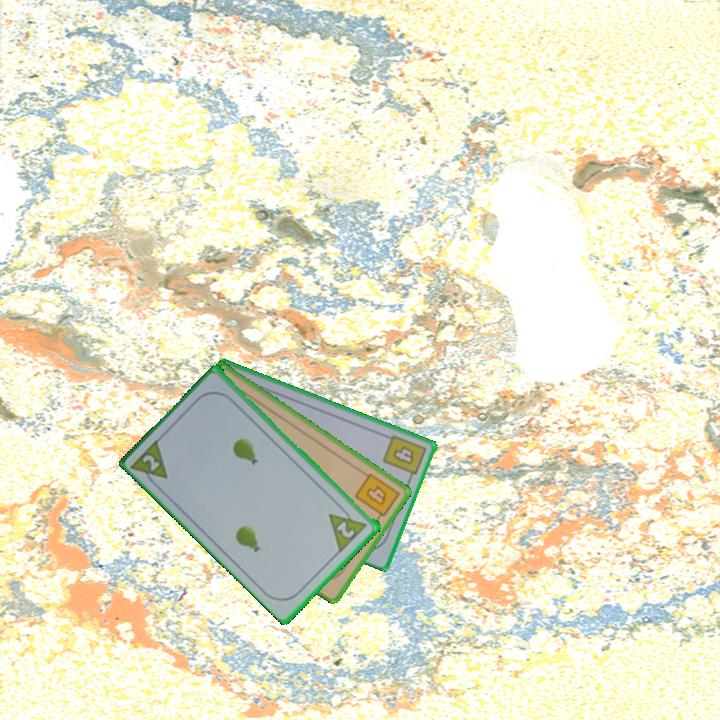2p: (128, 435, 171, 491), (333, 517, 358, 541)
4b: (351, 469, 403, 524), (379, 431, 429, 484)
